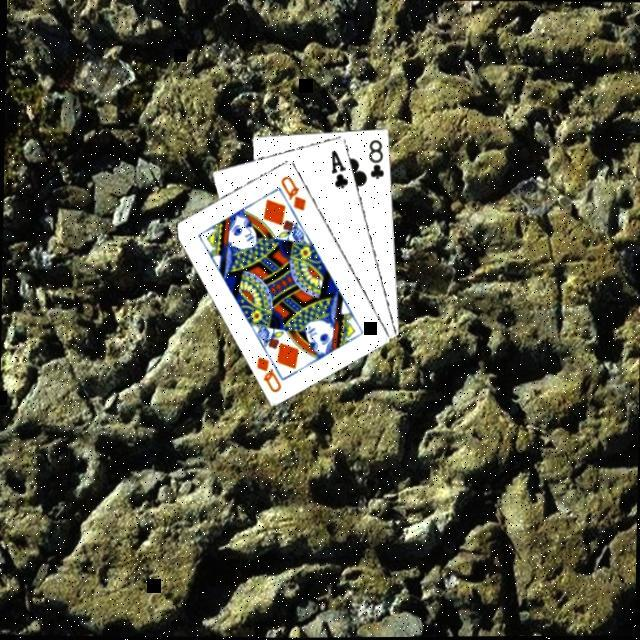8C: (366, 134, 389, 180)
AC: (328, 146, 352, 190)
QD: (252, 351, 286, 394), (277, 170, 310, 211)
